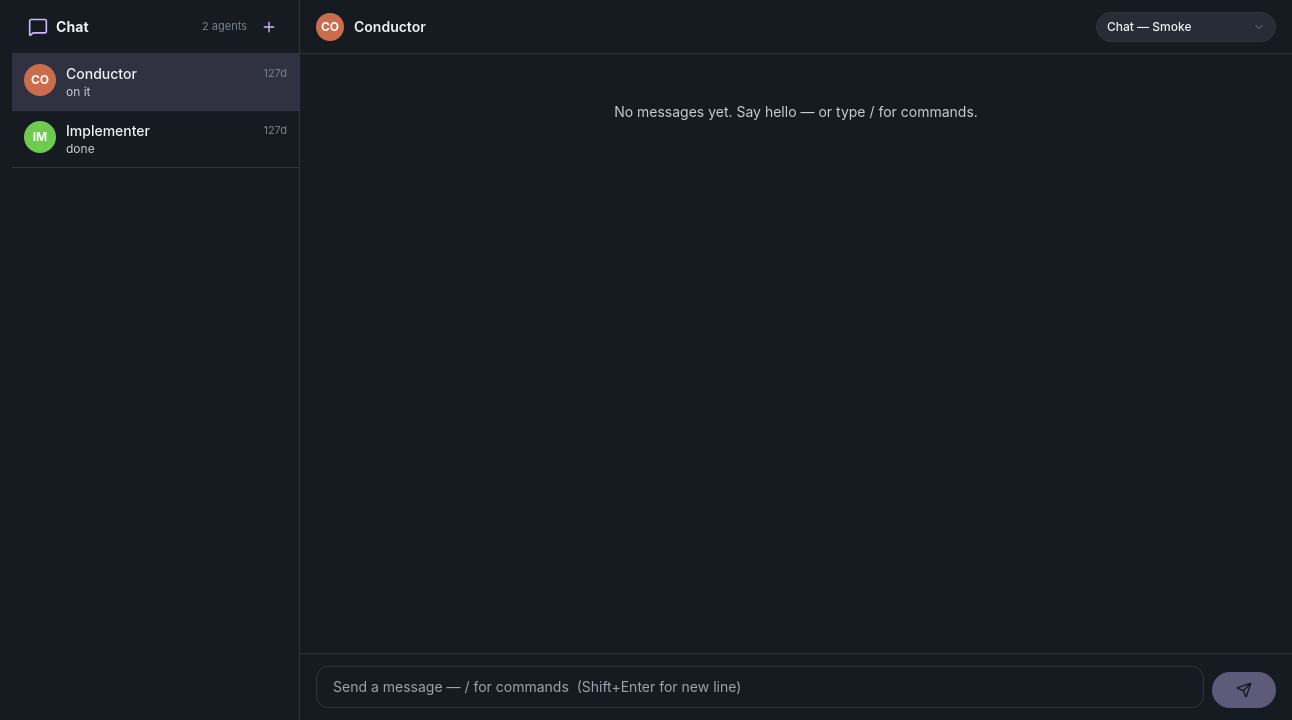
Chat page › new-chat agent picker also scrolls inside a max height
This screenshot has width=1292, height=720.
Step 1. Click the button titled "New chat" → (269, 26), box x1=255 y1=12 x2=283 y2=40
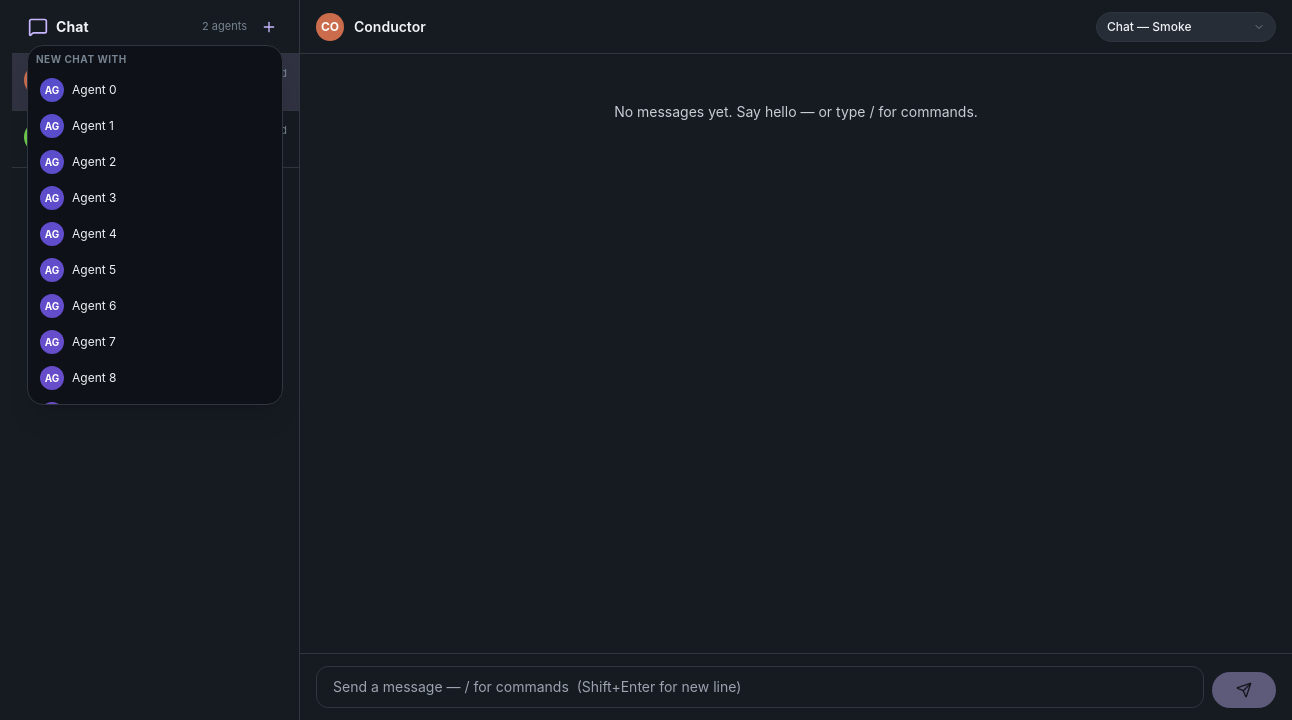
expect the element with class "overflow-y-auto" that starts with "Agent 0" is shown: met, box x1=28 y1=72 x2=282 y2=404
